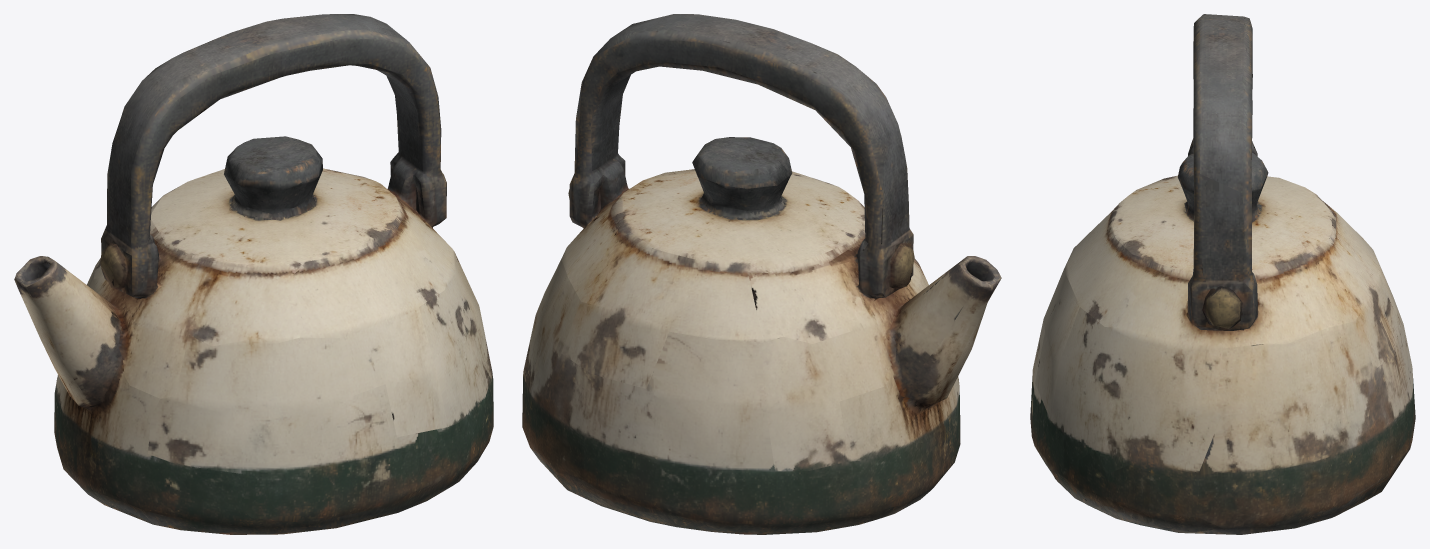
Rendered from enamel_kettle.glb.
3 views of the same model, side by side, from view 1: azimuth 30°, elevation 25°; view 2: azimuth 150°, elevation 25°; view 3: azimuth 270°, elevation 25° (orthographic). The views are drawn at different scales.
Size of the model in its own units: 0.27 by 0.25 by 0.21.
Materials: 1 (1 with a texture image).
